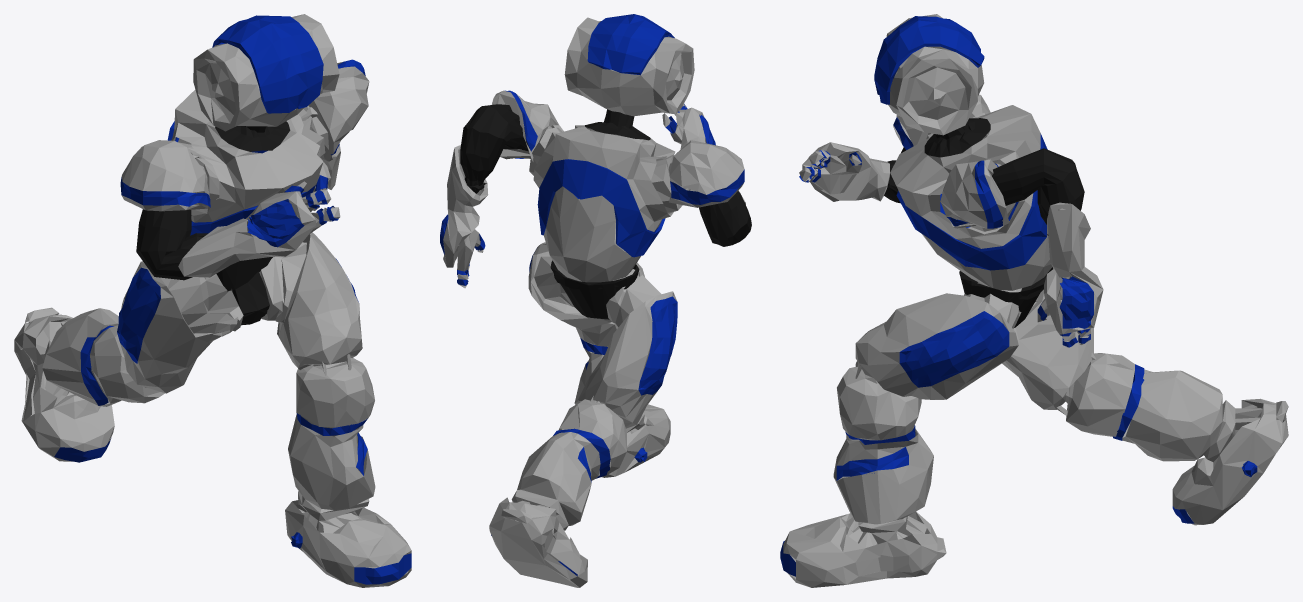
File: run6.obj
3 renders of one model, left to right at view 1: azimuth 30°, elevation 25°; view 2: azimuth 150°, elevation 25°; view 3: azimuth 270°, elevation 25°, orthographic. The views are drawn at different scales.
Visible parts, largest first — view 1: Robot2.001_Robot2Mesh.000, Robot2_Robot2Mesh.004, Robot2.002_Robot2Mesh.001; view 2: Robot2.001_Robot2Mesh.000, Robot2_Robot2Mesh.004, Robot2.002_Robot2Mesh.001; view 3: Robot2.001_Robot2Mesh.000, Robot2_Robot2Mesh.004, Robot2.002_Robot2Mesh.001.
Part boxes in pixels (x1,y1,x2,y2): Robot2.001_Robot2Mesh.000: (14,14,411,587); Robot2_Robot2Mesh.004: (54,15,411,584); Robot2.002_Robot2Mesh.001: (136,121,290,325); Robot2.001_Robot2Mesh.000: (443,17,745,587); Robot2_Robot2Mesh.004: (440,14,744,576); Robot2.002_Robot2Mesh.001: (460,104,751,319); Robot2.001_Robot2Mesh.000: (783,14,1288,587); Robot2_Robot2Mesh.004: (780,16,1257,576); Robot2.002_Robot2Mesh.001: (884,118,1084,327).
Size of the model in its own units: 0.98 by 1.85 by 1.62.
